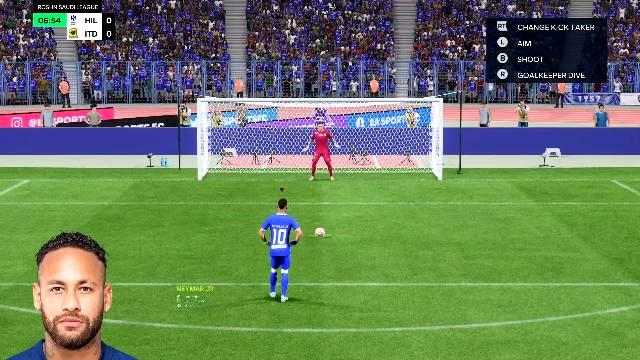bottom-left: (202, 141, 280, 181)
bottom-right: (358, 141, 438, 181)
center-down: (281, 140, 355, 180)
center-up: (281, 103, 355, 139)
circle: (308, 234, 332, 238)
football: (311, 229, 329, 238)
goalkeeper: (300, 121, 334, 181)
player: (258, 197, 302, 302)
top-left: (202, 103, 280, 139)
top-right: (356, 103, 439, 139)
